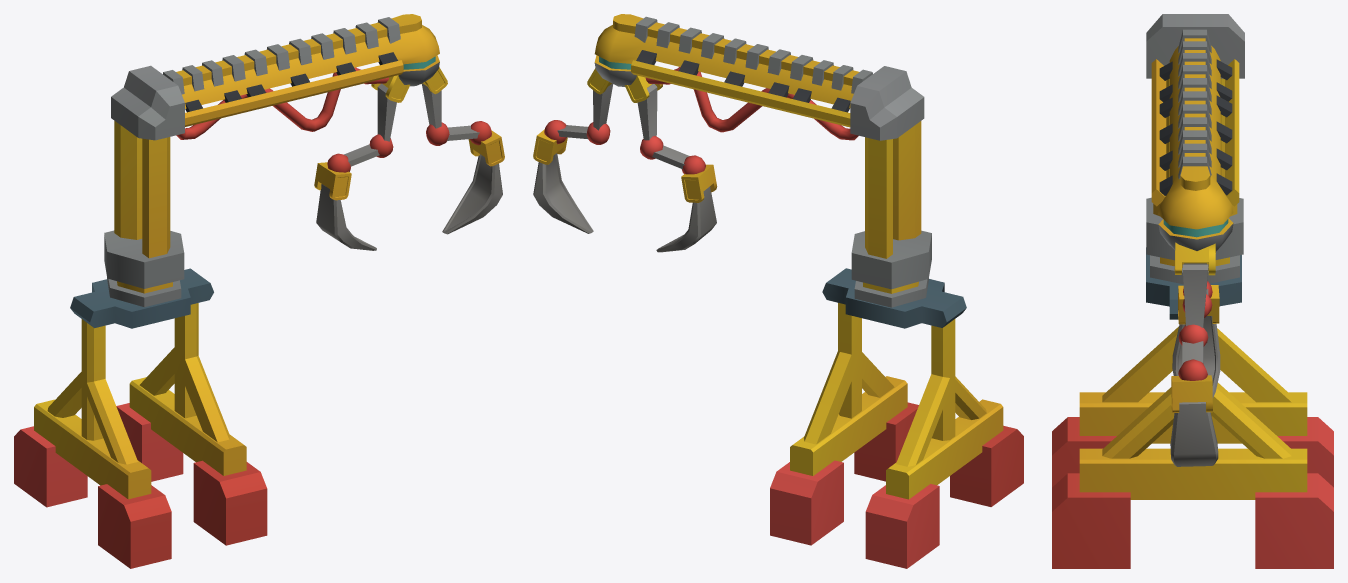
Rendered from Crane.fbx.
3 renders of one model, left to right at view 1: azimuth 30°, elevation 25°; view 2: azimuth 150°, elevation 25°; view 3: azimuth 270°, elevation 25°, orthographic. The views are drawn at different scales.
Visible parts, largest first — view 1: Crane; view 2: Crane; view 3: Crane.
Boxes of the visible parts, bbox=[...] form: Crane: bbox=[14, 14, 504, 568]; Crane: bbox=[533, 14, 1023, 568]; Crane: bbox=[1052, 14, 1333, 568].
Size of the model in its own units: 753 by 724 by 358.
